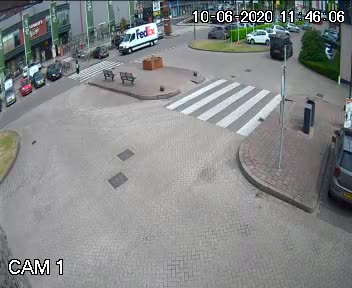car: (117, 25, 160, 51), (265, 30, 293, 65)
